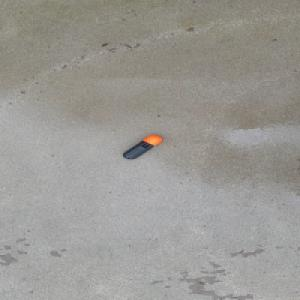PlasticPart: (120, 134, 163, 160)
